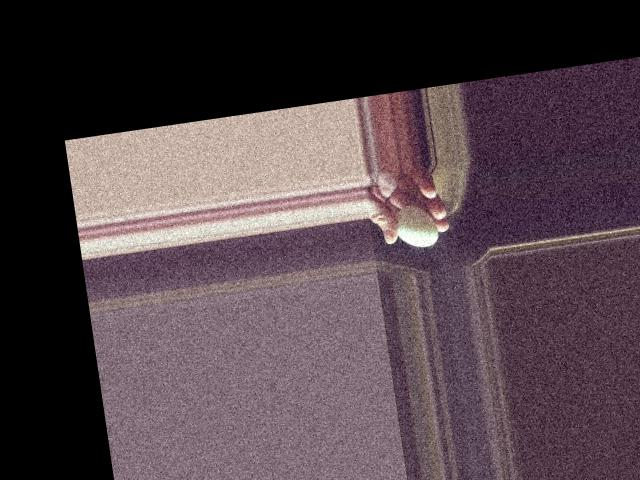egg: (393, 202, 439, 250)
